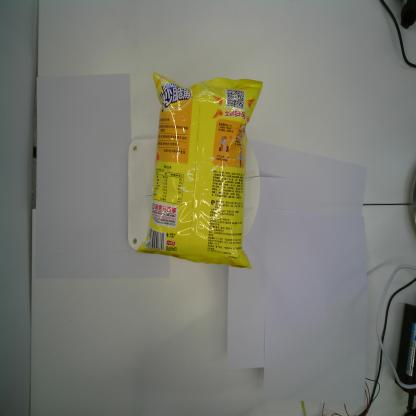Puffed Food: (134, 72, 263, 271)
